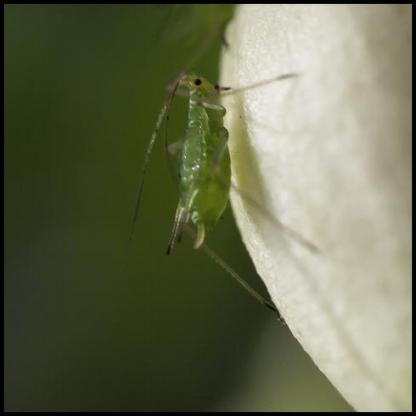aphid: (118, 58, 315, 301)
